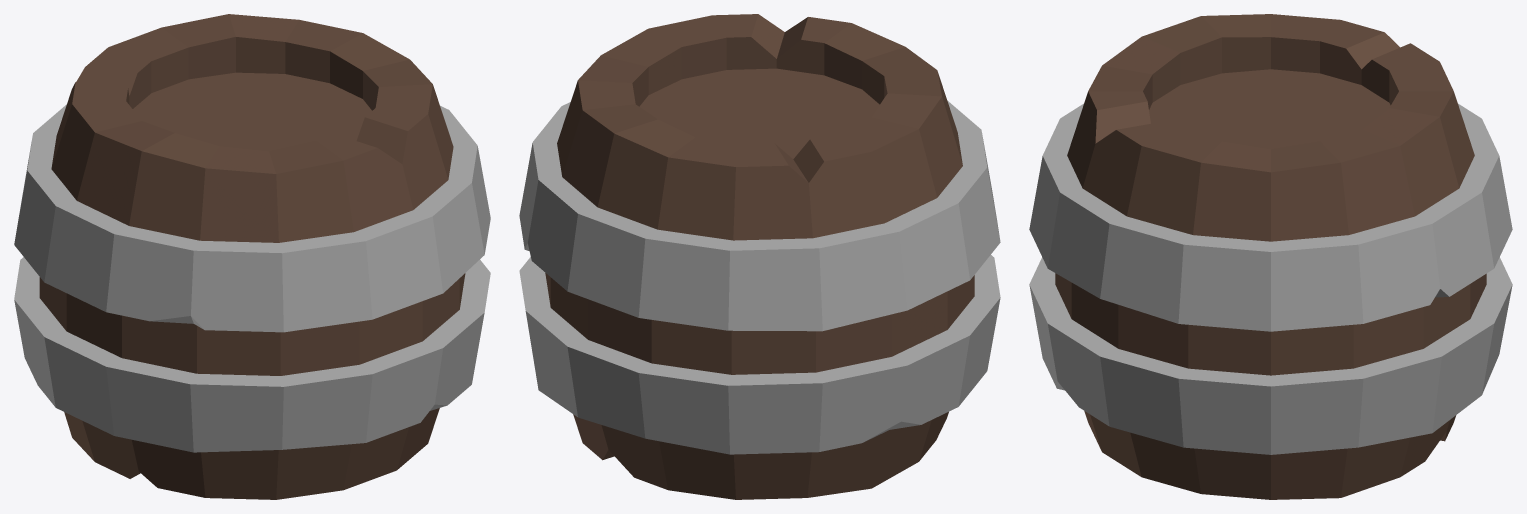
Rendered from barrelfinal.fbx.
3 renders of one model, left to right at view 1: azimuth 30°, elevation 25°; view 2: azimuth 150°, elevation 25°; view 3: azimuth 270°, elevation 25°, orthographic.
Parts seen in each view (by area): view 1: Cylinder.001, Cylinder.002; view 2: Cylinder.001, Cylinder.002; view 3: Cylinder.001, Cylinder.002.
Boxes of the visible parts, x1,y1,x2,y2 form: Cylinder.001: (39, 14, 465, 499); Cylinder.002: (14, 104, 490, 452); Cylinder.001: (545, 14, 974, 499); Cylinder.002: (519, 100, 1000, 454); Cylinder.001: (1055, 14, 1486, 499); Cylinder.002: (1029, 103, 1512, 454).
Size of the model in its own units: 264 by 205 by 264.
